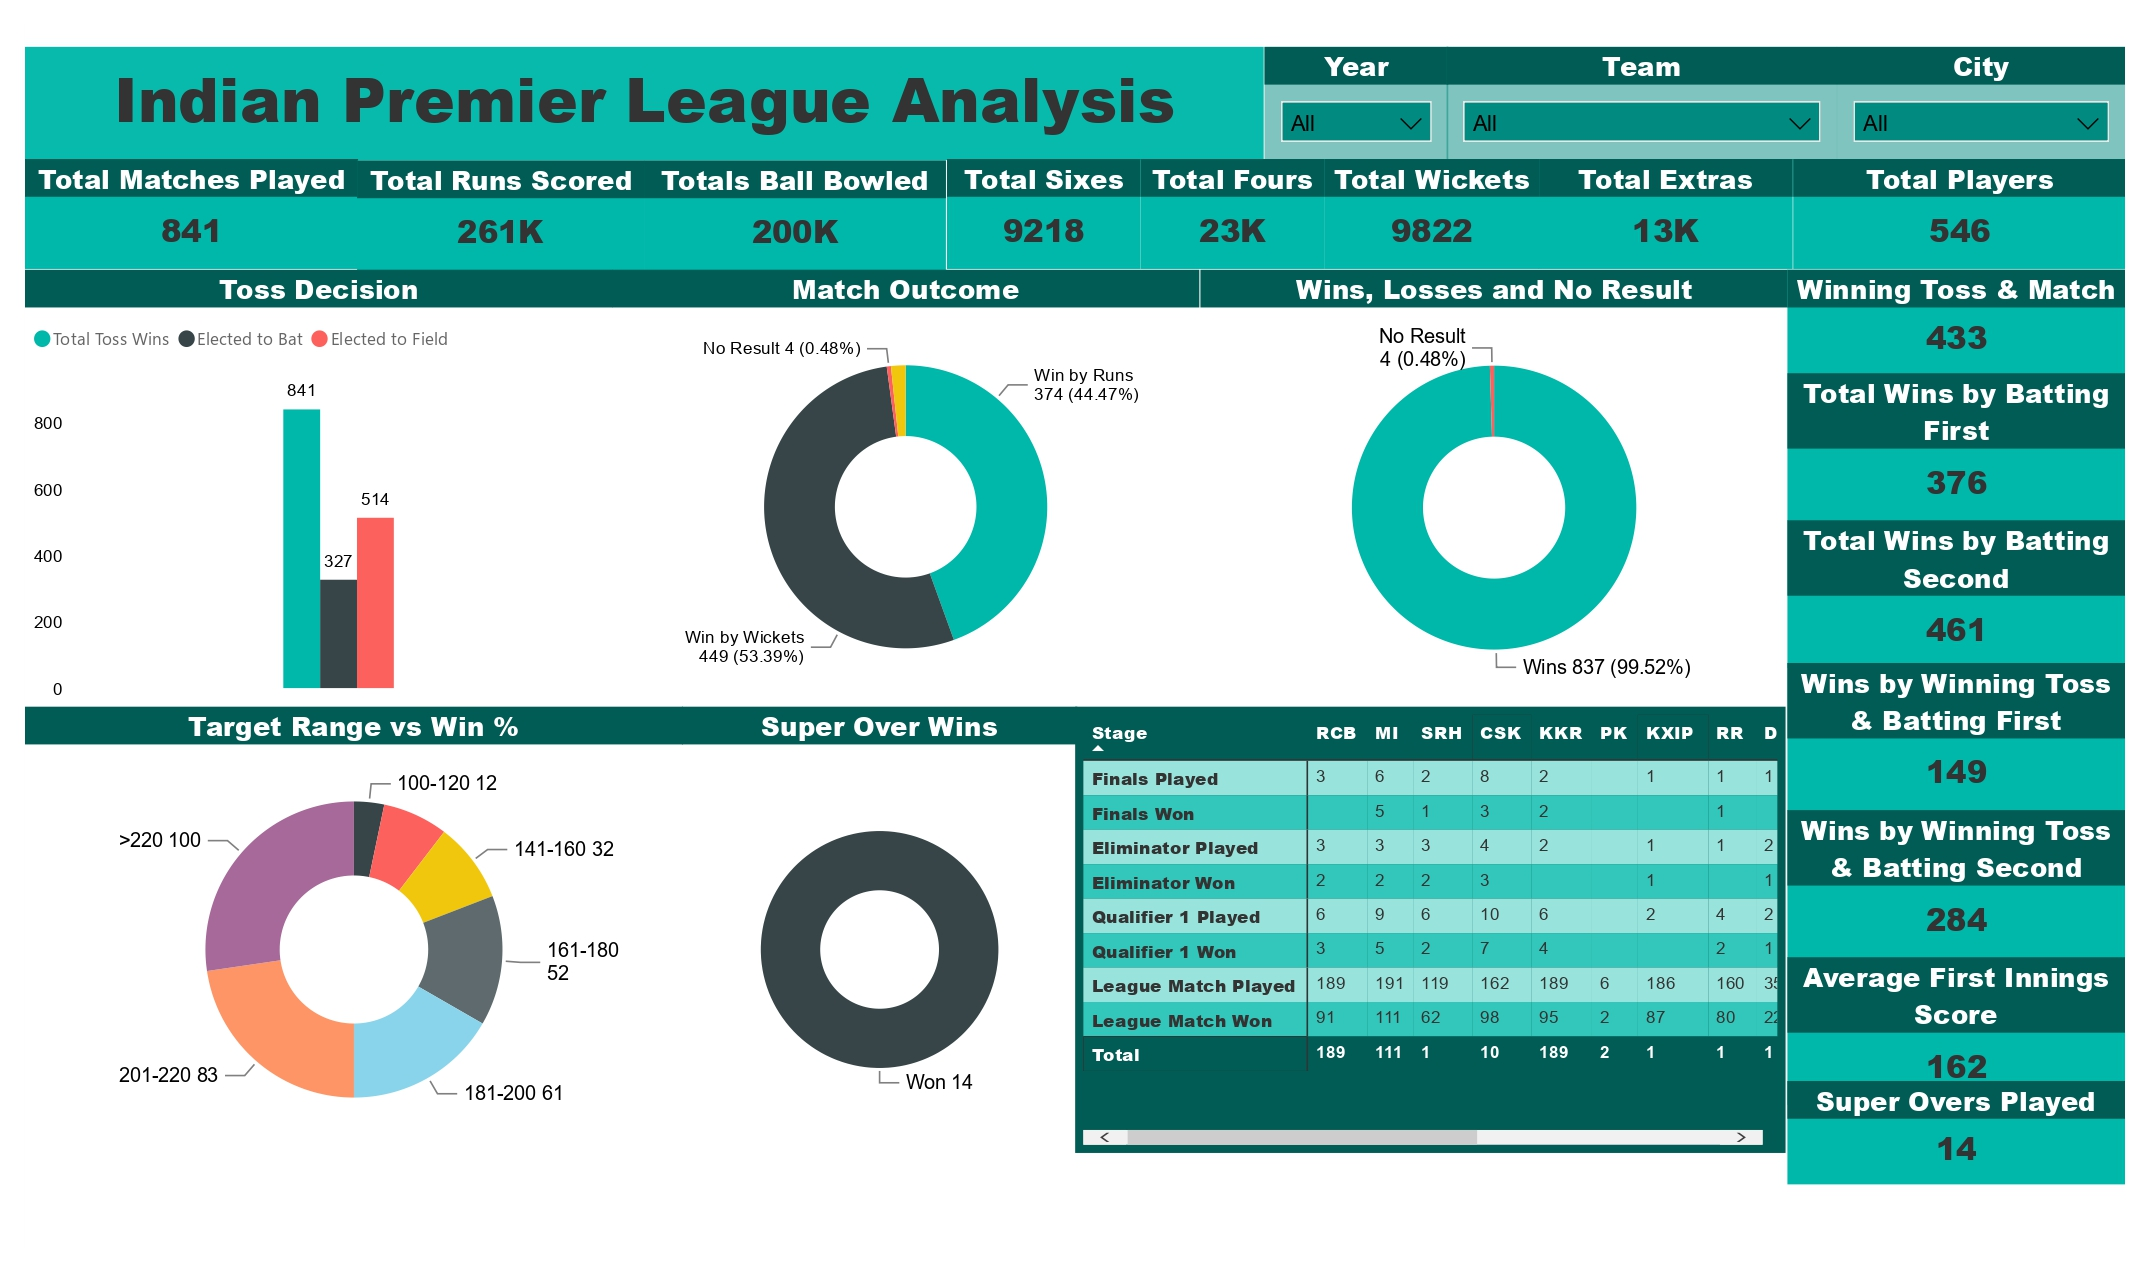

The dashboard page shown, as its layout file describes it:
{"tool":"powerbi","page":{"name":"Win Analysis","canvas":[1280,720],"ordinal":0},"visuals":[{"type":"textbox","box":[0,0,755.1,68.6],"z":0},{"type":"slicer","title":"Year","fields":{"Values":["Match Info.Year"]},"box":[755.1,0,111.8,68.6],"z":1000},{"type":"slicer","title":"Team","fields":{"Values":["Table.Teams"]},"box":[866.9,0,237.9,68.6],"z":2000},{"type":"slicer","title":"City","fields":{"Values":["Match Info.City"]},"box":[1104.7,0,175.6,68.6],"z":3000},{"type":"card","title":"Total Matches Played","fields":{"Values":["Ball by Ball Info.Total Matches Played 2"]},"box":[0,68.6,202.7,67.1],"z":4000},{"type":"card","title":"Total Extras","fields":{"Values":["Ball by Ball Info.Total Extras"]},"box":[922.7,68.6,154.9,67.1],"z":5000},{"type":"card","title":"Total Players","fields":{"Values":["Ball by Ball Info.Total Players"]},"box":[1077.6,68.6,202.7,67.1],"z":6000},{"type":"card","title":"Total Runs Scored","fields":{"Values":["Ball by Ball Info.TotalRuns2"]},"box":[202.1,69,175.5,66.6],"z":7000},{"type":"card","title":"Totals Ball Bowled","fields":{"Values":["Ball by Ball Info.Total Balls2"]},"box":[377.5,69,183.9,66.6],"z":8000},{"type":"card","title":"Total Sixes","fields":{"Values":["Ball by Ball Info.Total Sixes"]},"box":[562,68.6,118.1,67.1],"z":9000},{"type":"card","title":"Total Fours","fields":{"Values":["Ball by Ball Info.Total Fours"]},"box":[680.1,68.6,111.8,67.1],"z":10000},{"type":"card","title":"Total Wickets","fields":{"Values":["Ball by Ball Info.Total Wickets2"]},"box":[791.8,68.6,130.9,67.1],"z":11000},{"type":"donutChart","title":"Match Outcome","fields":{"Y":["Match Info.WinByRuns","Match Info.WinByWickets","Match Info.NoResult","Match Info.WinBySuperOver"]},"box":[358.2,135.5,358.2,266.2],"z":12000},{"type":"clusteredColumnChart","title":"Toss Decision","fields":{"Y":["Match Info.TotalTossWins","Match Info.TotalTossWins_Bat","Match Info.TotalTossWins_Field"]},"box":[0,135.7,358,266.6],"z":13000},{"type":"donutChart","fields":{"Y":["Match Info.TotalWins","Match Info.TotalLoss","Match Info.TotalNoResult"]},"box":[716.4,135.5,358,267.4],"z":14000},{"type":"card","title":"Total Wins by Batting First","fields":{"Values":["Match Info.TotalFirstBattingWins"]},"box":[1074.3,198.9,205.7,89.5],"z":15000},{"type":"card","title":"Total Wins by Batting Second","fields":{"Values":["Match Info.TotalSecondBattingWins"]},"box":[1074.3,288.5,205.7,89.5],"z":16000},{"type":"card","title":"Wins by Winning Toss & Batting First","fields":{"Values":["Match Info.TotalFirsttoBatTossWinandMatchWin"]},"box":[1074.3,375.6,205.7,89.5],"z":17000},{"type":"card","title":"Wins by Winning Toss & Batting Second","fields":{"Values":["Match Info.TotalSecondtoBatTossWinandMatchWin"]},"box":[1074.3,465.2,205.7,89.5],"z":18000},{"type":"card","title":"Winning Toss & Match","fields":{"Values":["Match Info.TossWinMatchWin"]},"box":[1074.6,135.5,205.7,62.9],"z":19000},{"type":"donutChart","title":"Target Range vs Win %","fields":{"Y":["Match Info.TargetRange100","Match Info.TargetRange120","Match Info.TargetRange140","Match Info.TargetRange160","Match Info.TargetRange180","Match Info.TargetRange200","Match Info.TargetRange220","Match Info.TargetRange240"]},"box":[0,401.7,400.5,273.5],"z":20000},{"type":"card","title":"Average First Innings Score","fields":{"Values":["Match Info.AvgFirstInningsScore"]},"box":[1074.3,554.7,205.7,89.5],"z":21000},{"type":"card","title":"Super Overs Played","fields":{"Values":["Ball by Ball Info.SuperOversPlayed"]},"box":[1074.6,630.5,205.7,62.9],"z":22000},{"type":"donutChart","title":"Super Over Wins","fields":{"Y":["Ball by Ball Info.SuperOversLost","Ball by Ball Info.SuperOversWon"]},"box":[400.5,401.7,240.8,273.5],"z":23000},{"type":"pivotTable","fields":{"Rows":["Teams Satges.Stage"],"Values":["Min(Teams Satges.Royal Challengers Bangalore)","Min(Teams Satges.Mumbai Indians)","Min(Teams Satges.Sunrisers Hyderbad)","Min(Teams Satges.Chennai Super Kings)","Min(Teams Satges.Kolkata Knight Riders)","Min(Teams Satges.Punjab Kings)","Min(Teams Satges.Kings X1 Punjab)","Min(Teams Satges.Rajasthan Royals)","Min(Teams Satges.Delhi Capitals)","Min(Teams Satges.Delhi Daredevils)","Min(Teams Satges.Rising Pune Supergiants)","Min(Teams Satges.Pune Warriors)"]},"box":[640.1,401.7,433.2,272.3],"z":24000}]}

Visuals, with their boxes in screenshot pixels (x1, y1, x2, y2):
textbox: bbox(0, 73, 1251, 186)
"Year" slicer: bbox(1251, 73, 1436, 186)
"Team" slicer: bbox(1436, 73, 1830, 186)
"City" slicer: bbox(1830, 73, 2121, 186)
"Total Matches Played" card: bbox(0, 186, 336, 298)
"Total Extras" card: bbox(1528, 186, 1785, 298)
"Total Players" card: bbox(1785, 186, 2121, 298)
"Total Runs Scored" card: bbox(335, 187, 625, 297)
"Totals Ball Bowled" card: bbox(625, 187, 930, 297)
"Total Sixes" card: bbox(931, 186, 1127, 298)
"Total Fours" card: bbox(1127, 186, 1312, 298)
"Total Wickets" card: bbox(1312, 186, 1528, 298)
"Match Outcome" donutChart: bbox(593, 297, 1187, 738)
"Toss Decision" clusteredColumnChart: bbox(0, 298, 593, 739)
donutChart - Match Info.TotalWins x Match Info.TotalLoss: bbox(1187, 297, 1780, 740)
"Total Wins by Batting First" card: bbox(1780, 402, 2120, 551)
"Total Wins by Batting Second" card: bbox(1780, 551, 2120, 699)
"Wins by Winning Toss & Batting First" card: bbox(1780, 695, 2120, 843)
"Wins by Winning Toss & Batting Second" card: bbox(1780, 843, 2120, 992)
"Winning Toss & Match" card: bbox(1780, 297, 2121, 401)
"Target Range vs Win %" donutChart: bbox(0, 738, 663, 1191)
"Average First Innings Score" card: bbox(1780, 992, 2120, 1140)
"Super Overs Played" card: bbox(1780, 1117, 2121, 1221)
"Super Over Wins" donutChart: bbox(663, 738, 1062, 1191)
pivotTable - Teams Satges.Stage x Min(Teams Satges.Royal Challengers Bangalore): bbox(1060, 738, 1778, 1189)
